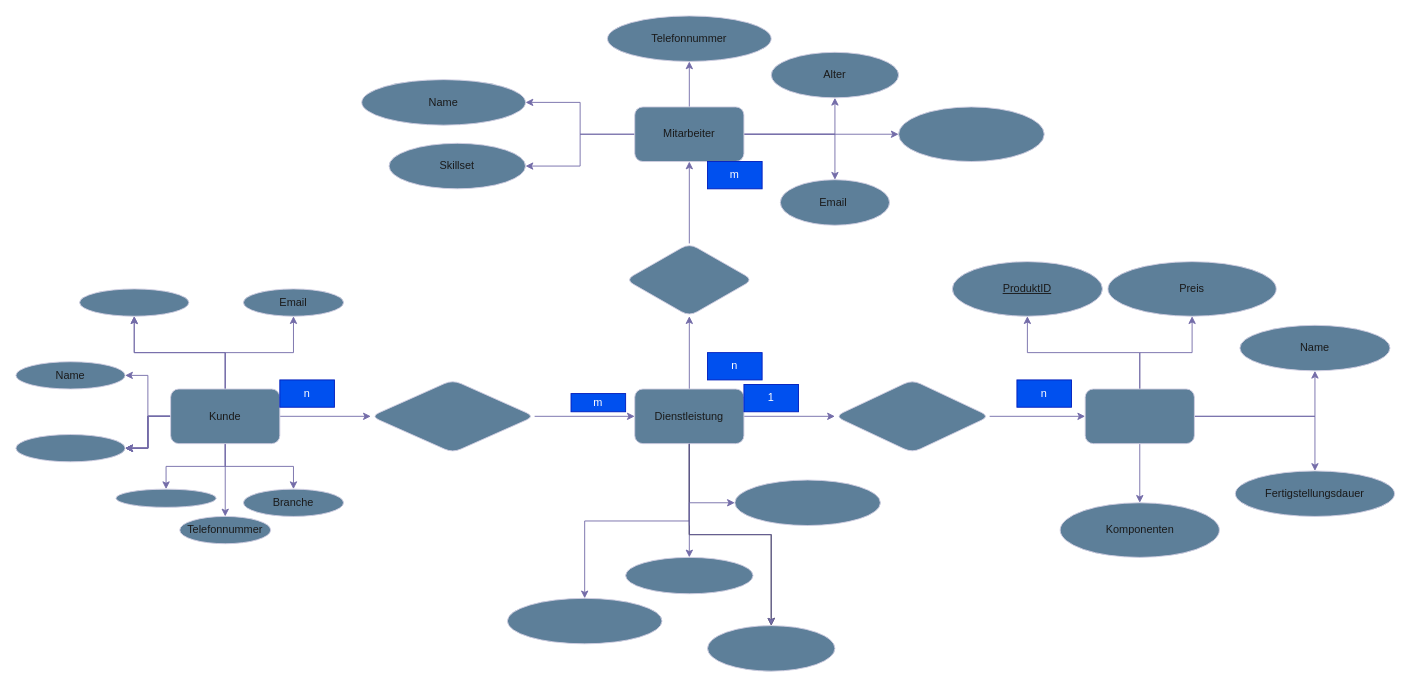
Image size: 1411x687. Some labels were removed from this diagram. The shapes that lost their labels are listed below. From the top down, each one's box as (x1, y1, x2, y2) in pixels, then its label:
(898, 106, 1044, 162): Mitarbeiter ID
(625, 243, 753, 316): wird zugeteilt zu
(79, 288, 189, 316): KundenID
(370, 379, 535, 453): bestellt & bezahlt
(834, 379, 990, 453): beinhaltet
(1084, 388, 1194, 444): Produkt
(15, 434, 125, 462): Ansprechpartner
(115, 488, 216, 507): Adresse
(734, 479, 880, 526): Datum
(625, 556, 753, 594): Gesamtpreis
(506, 597, 662, 644): DienstleistungsID
(707, 625, 835, 671): Priorität
